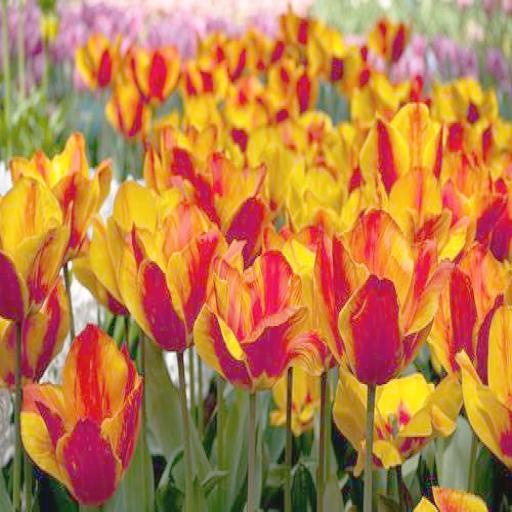tulip: (22, 321, 146, 512), (318, 212, 452, 386), (194, 254, 306, 392), (120, 204, 223, 352)
